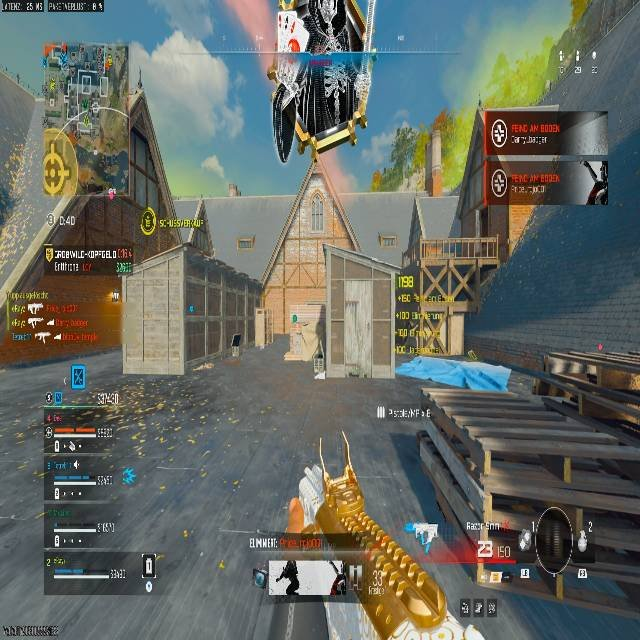player: (229, 333, 241, 360)
